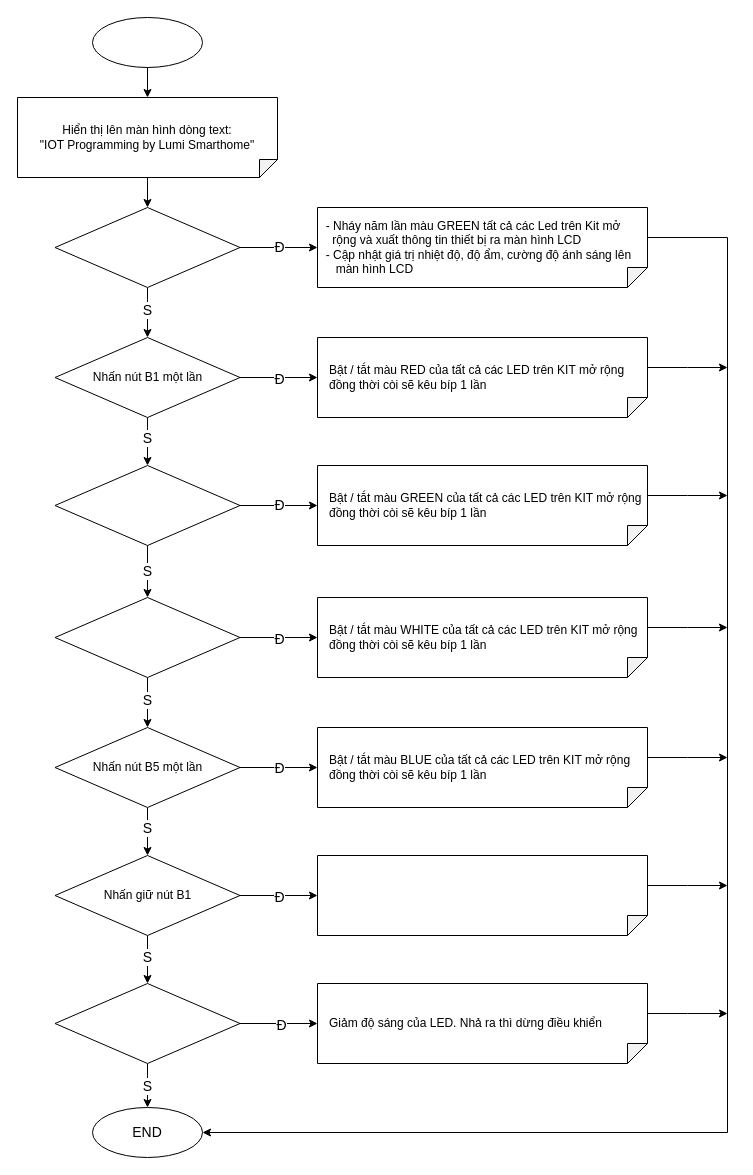
Image size: 753x1175. Some labels were removed from this diagram. The shapes that lost their labels are listed below. From the top down, each one's box as (x1, y1, x2, y2) in pixels, then its label:
(92, 16, 202, 68): START
(54, 206, 240, 288): Nhấn nút B3 năm lần
(54, 464, 240, 546): Nhấn nút B2 một lần
(54, 596, 240, 678): Nhấn nút B4 một lần
(316, 854, 648, 936): Tăng độ sáng của LED. Nhả ra thì dừng điều khiển
(54, 982, 240, 1064): Nhấn giữ nút B5
